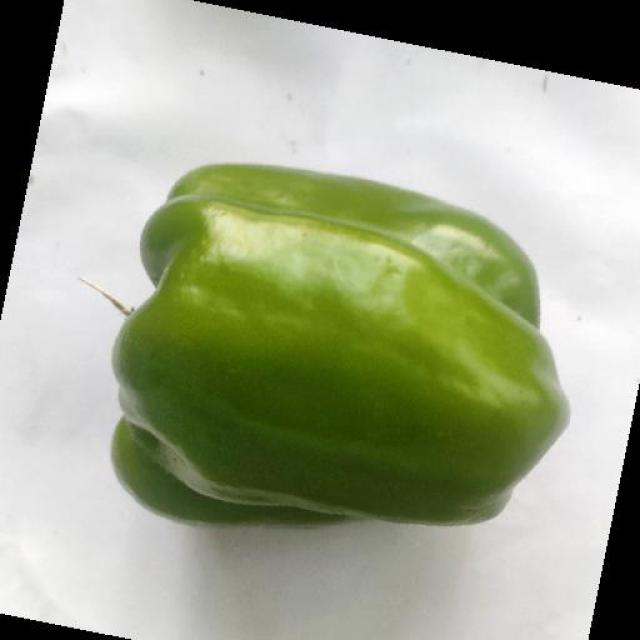Fresh_Capsicum: (108, 179, 560, 548)
